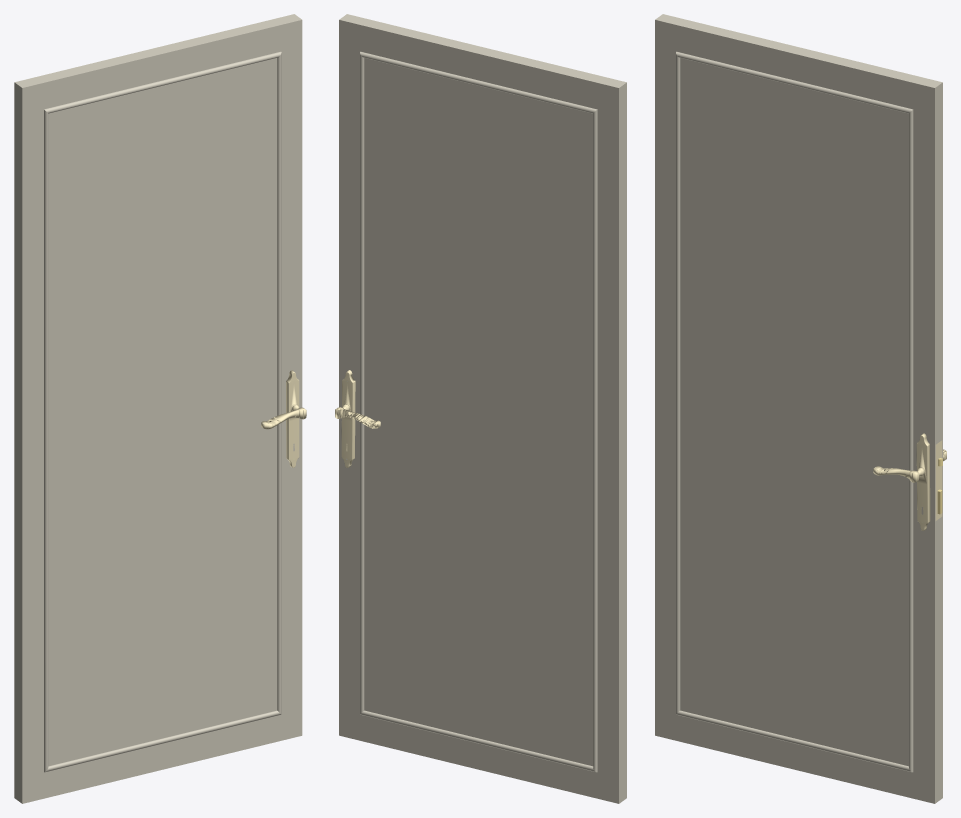
File: DoorLeafPrepared.glb
The picture shows the model from 3 angles, left to right: view 1: azimuth 30°, elevation 25°; view 2: azimuth 150°, elevation 25°; view 3: azimuth 330°, elevation 25°; orthographic projection.
Parts seen in each view (by area): view 1: DoorLeafPrepared_Material2.004, DoorLeafPrepared_Material2.002, DoorLeafPrepared_Material2.013; view 2: DoorLeafPrepared_Material2.003, DoorLeafPrepared_Material2.004, DoorLeafPrepared_Material2.017; view 3: DoorLeafPrepared_Material2.004, DoorLeafPrepared_Material2.002, DoorLeafPrepared_Material2.013.
Part boxes in pixels (box(x1,y1,x2,y2)): DoorLeafPrepared_Material2.004: box(14, 14, 302, 803); DoorLeafPrepared_Material2.002: box(44, 51, 281, 772); DoorLeafPrepared_Material2.013: box(261, 370, 306, 467); DoorLeafPrepared_Material2.003: box(360, 51, 597, 772); DoorLeafPrepared_Material2.004: box(339, 14, 626, 803); DoorLeafPrepared_Material2.017: box(335, 370, 380, 467); DoorLeafPrepared_Material2.004: box(655, 14, 942, 803); DoorLeafPrepared_Material2.002: box(676, 51, 913, 772); DoorLeafPrepared_Material2.013: box(873, 433, 930, 530).
Bounding box in the file's own units: 0.96 × 2.32 × 0.2.
